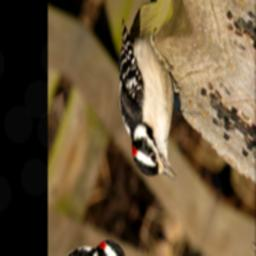Woodpecker: (86, 1, 213, 198)
